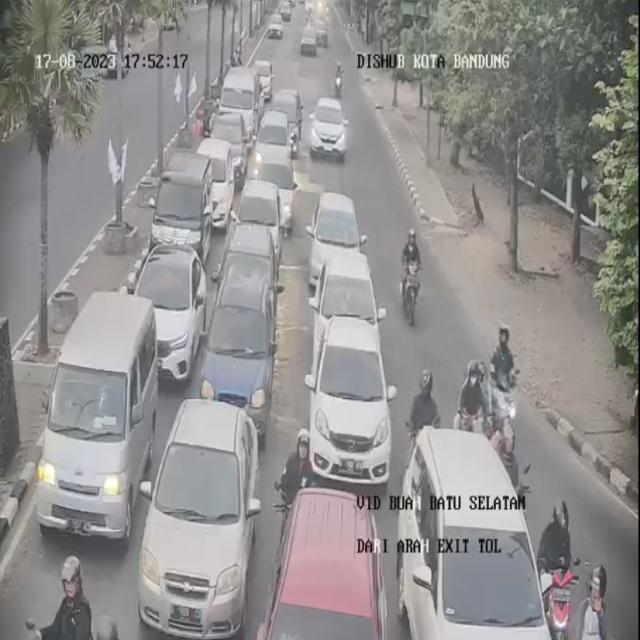cars: (398, 424, 556, 640), (40, 292, 160, 549), (142, 390, 264, 636), (264, 490, 391, 639), (200, 220, 279, 454), (310, 316, 392, 490), (135, 246, 207, 379), (317, 246, 384, 354), (154, 151, 214, 266), (234, 176, 285, 281), (313, 188, 361, 284), (195, 138, 235, 224), (255, 144, 295, 224), (310, 95, 346, 171), (213, 109, 250, 178), (222, 68, 259, 132), (267, 91, 300, 146), (259, 110, 289, 164), (297, 26, 325, 63), (253, 60, 277, 98), (310, 20, 328, 54), (268, 16, 286, 42), (280, 0, 292, 25)
motorcycle: (530, 489, 576, 640), (272, 425, 318, 567), (48, 550, 101, 638), (487, 321, 518, 454), (575, 560, 621, 640), (407, 366, 442, 445), (456, 358, 490, 438), (397, 225, 422, 322), (334, 59, 349, 100)
